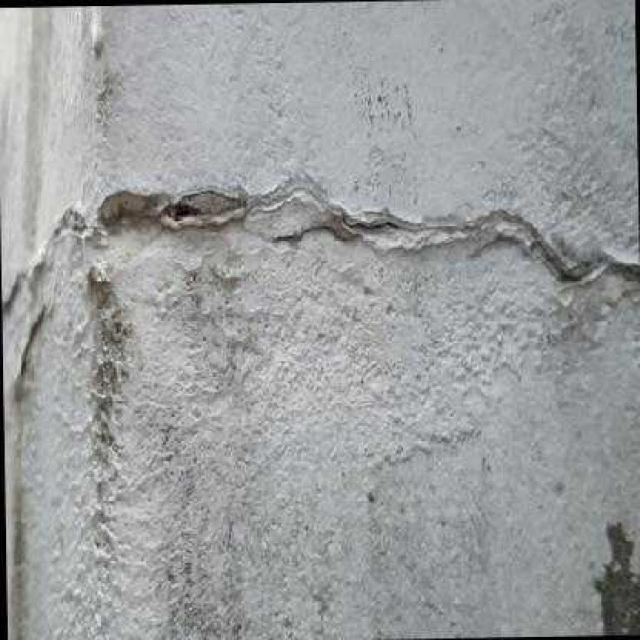D00: (105, 174, 640, 292)
